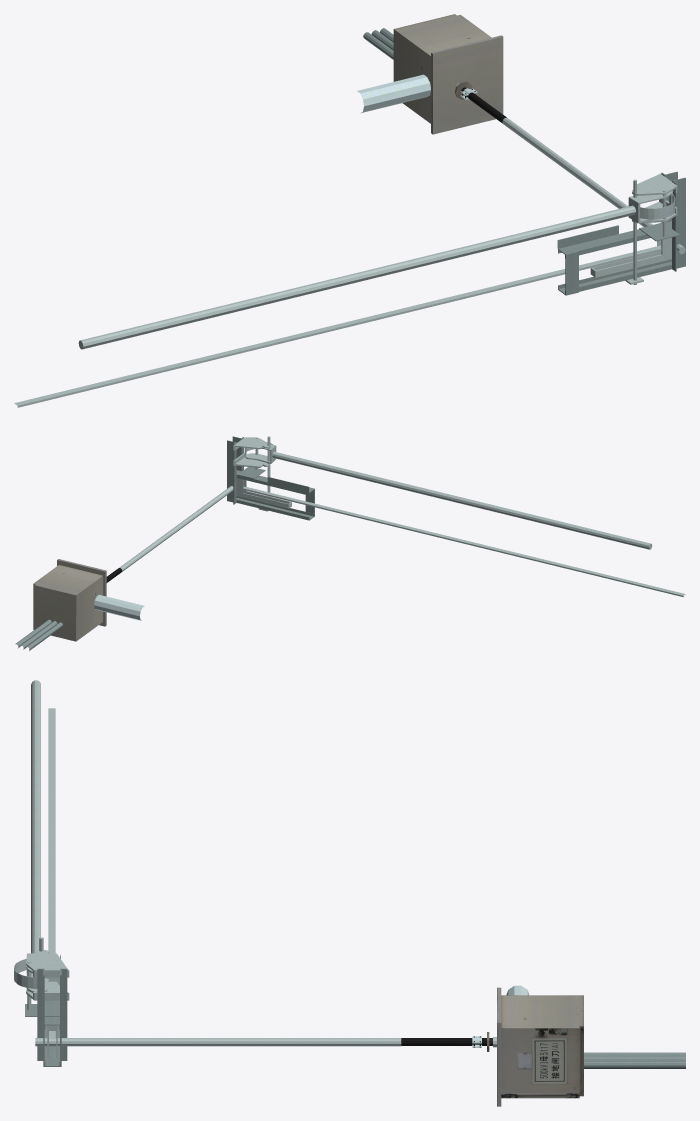
Rendered from glkg-11m32000237461162b-geode.glb.
3 views of the same model, one above another, from view 1: azimuth 30°, elevation 25°; view 2: azimuth 150°, elevation 25°; view 3: azimuth 270°, elevation 25° (orthographic). The views are drawn at different scales.
Visible parts, largest first — view 1: Node; view 2: Node; view 3: Node.
Part boxes in pixels (box(x1,y1,x2,y2)): Node: box(14, 14, 685, 407); Node: box(15, 436, 685, 650); Node: box(14, 680, 685, 1106).
Size of the model in its own units: 5.79 by 0.9424 by 4.63.
7 materials, 7 textured.
